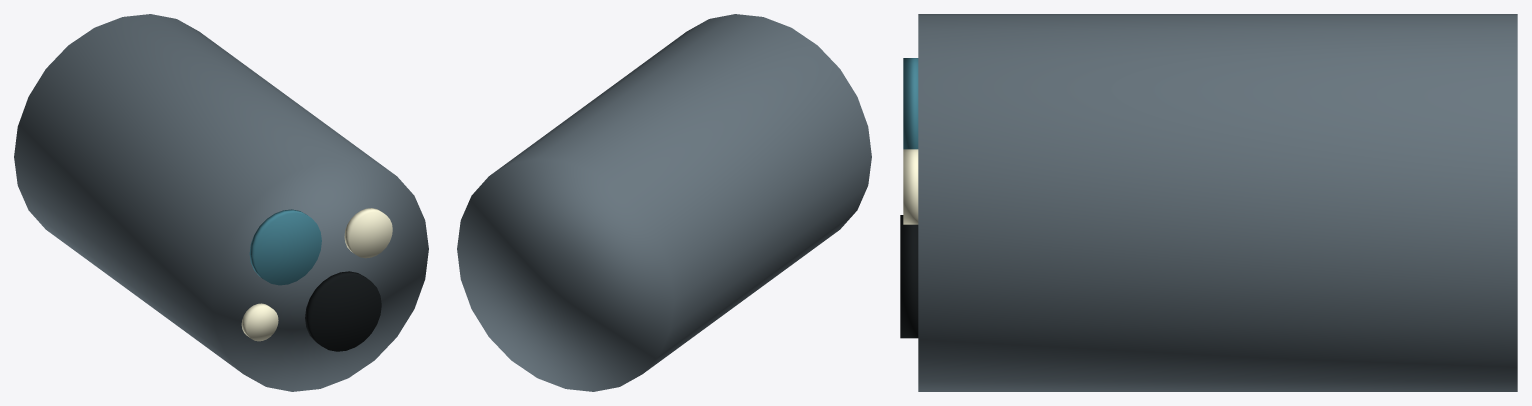
The model's file is scope-tip.glb.
3 views of the same model, side by side, from view 1: azimuth 30°, elevation 25°; view 2: azimuth 150°, elevation 25°; view 3: azimuth 270°, elevation 25° (orthographic). The views are drawn at different scales.
Visible parts, largest first — view 1: TIP_body, TIP_channel, TIP_lens, TIP_light; view 2: TIP_body; view 3: TIP_body, TIP_channel, TIP_lens, TIP_light.
Boxes of the visible parts, <box> form: TIP_body: <box>14,14,428,391</box>; TIP_channel: <box>305,271,381,351</box>; TIP_lens: <box>249,209,321,285</box>; TIP_light: <box>241,208,392,341</box>; TIP_body: <box>457,14,871,391</box>; TIP_body: <box>918,14,1517,391</box>; TIP_channel: <box>900,215,918,338</box>; TIP_lens: <box>903,58,918,149</box>; TIP_light: <box>903,149,918,224</box>.
Size of the model in its own units: 3.8 by 3.8 by 6.18.
